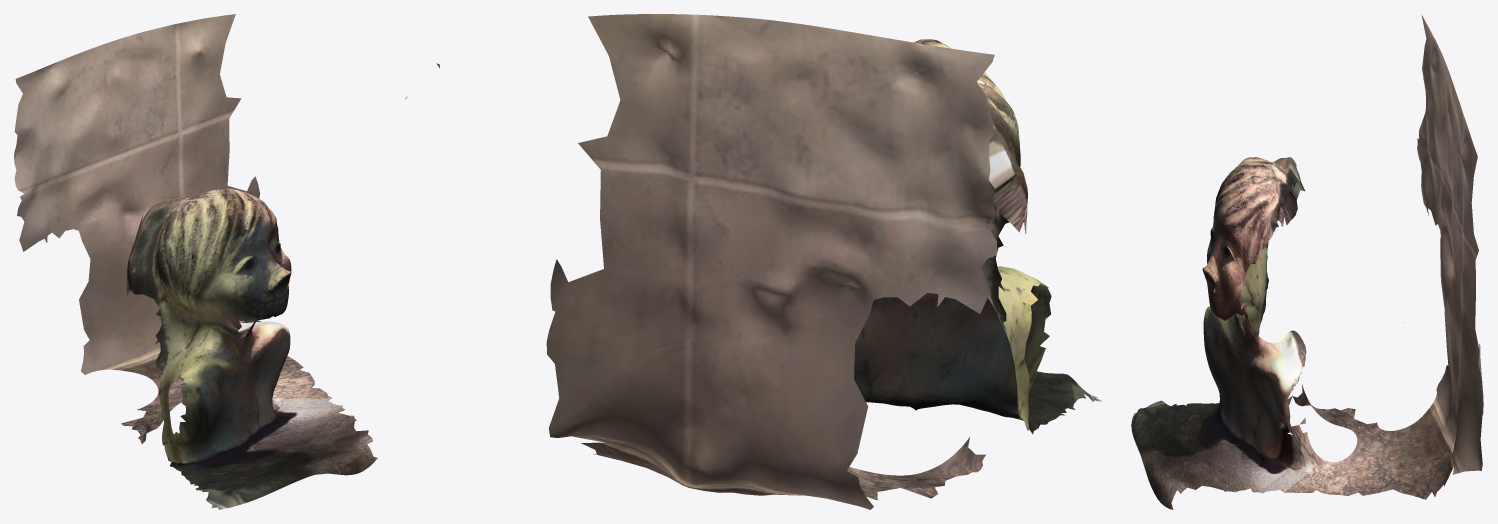
Rendered from krakerigeKop.glb.
3 renders of one model, left to right at view 1: azimuth 30°, elevation 25°; view 2: azimuth 150°, elevation 25°; view 3: azimuth 270°, elevation 25°, orthographic. The views are drawn at different scales.
Visible parts, largest first — view 1: krakerigeKop; view 2: krakerigeKop; view 3: krakerigeKop.
Part boxes in pixels (x1,y1,x2,y2): krakerigeKop: (14,14,406,509); krakerigeKop: (437,14,1101,509); krakerigeKop: (1131,15,1483,509).
Size of the model in its own units: 25.52 by 22.7 by 19.23.
Materials: 1 (1 with a texture image).
